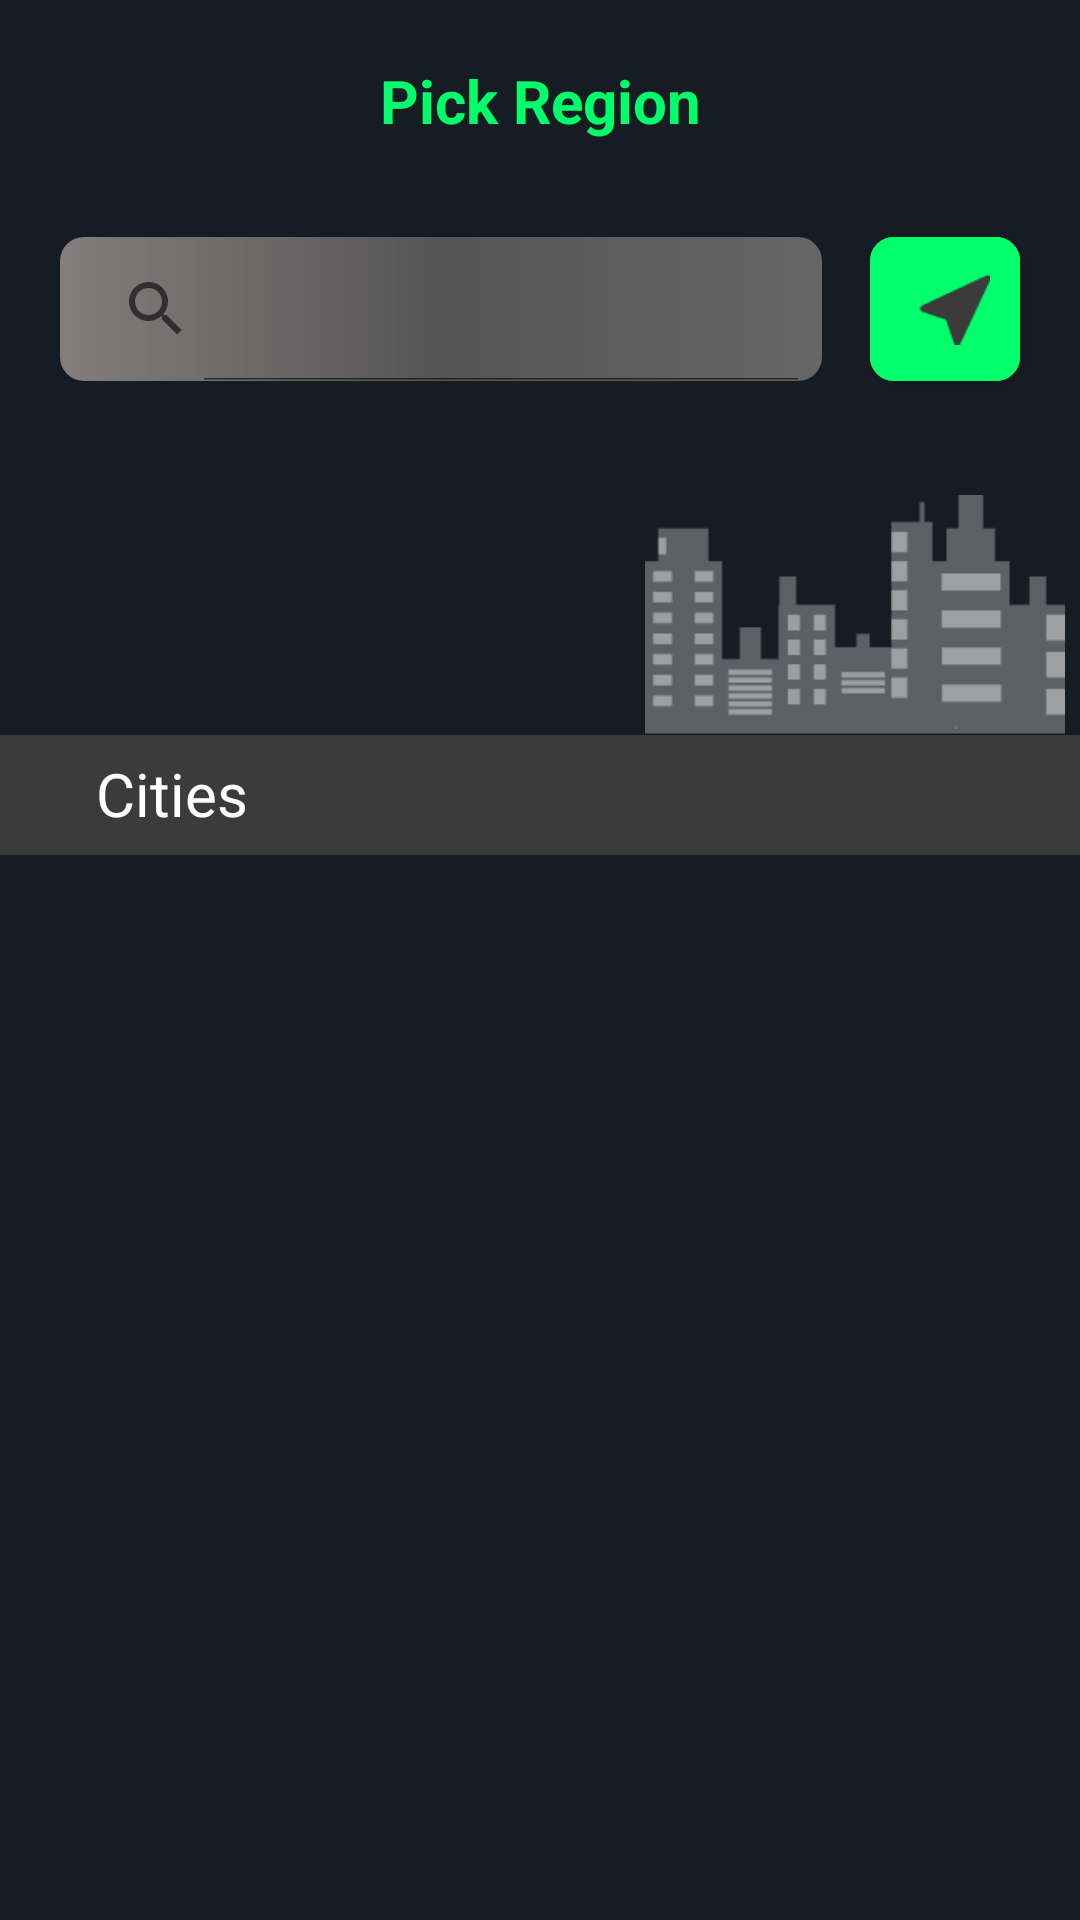

Named icons in this screenshot (1080 × 1920) and their centers, (x=x, y=y):
navigation: (x=945, y=309)
